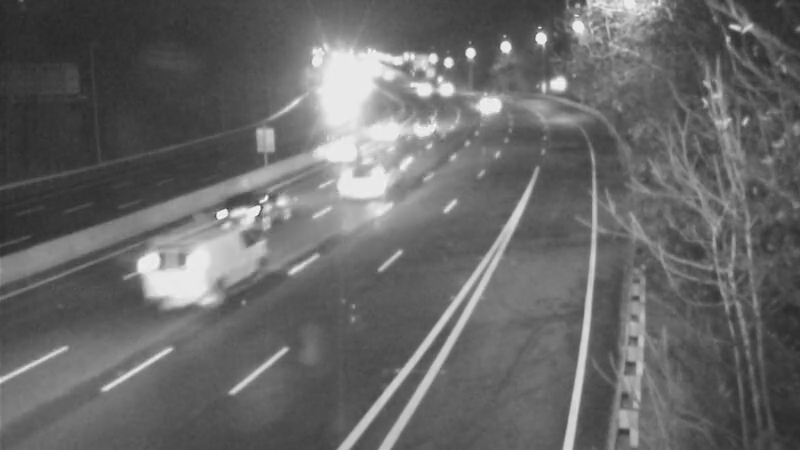vehicle: (324, 144, 404, 224), (212, 169, 292, 249), (143, 237, 223, 317), (421, 63, 471, 113), (395, 64, 445, 114), (464, 75, 514, 125), (399, 98, 449, 148), (366, 102, 416, 152), (318, 125, 368, 175)
